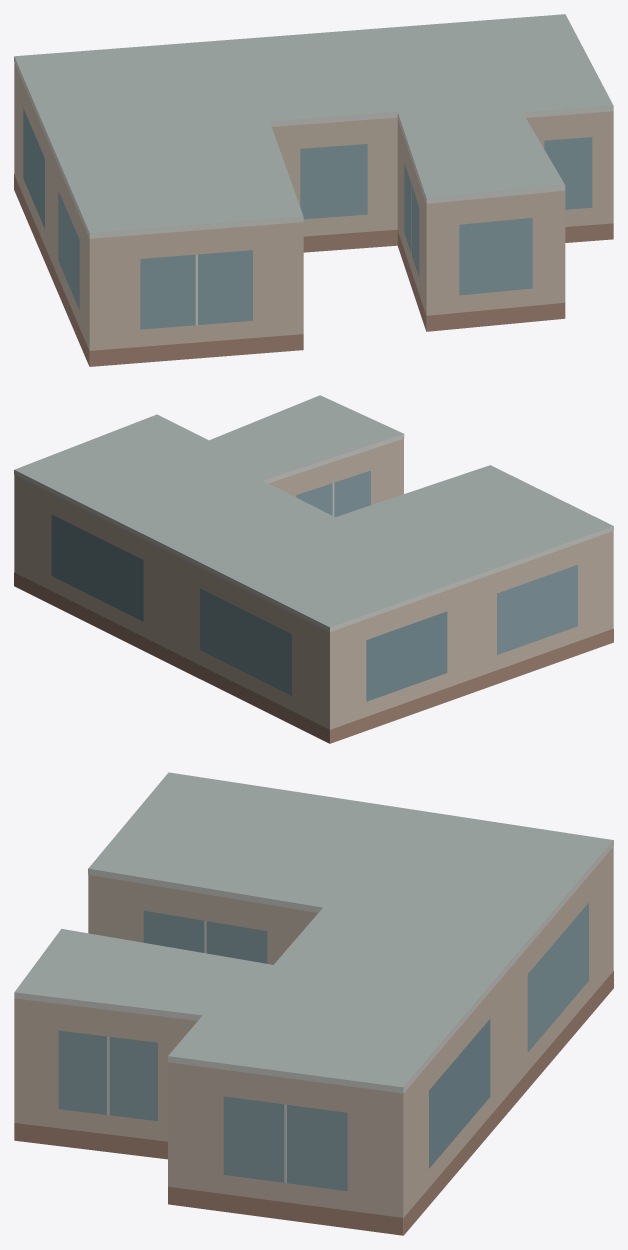
Rendered from survey-upis-33018129.glb.
3 renders of one model, top to bottom at view 1: azimuth 30°, elevation 25°; view 2: azimuth 150°, elevation 25°; view 3: azimuth 270°, elevation 25°, orthographic. The views are drawn at different scales.
Visible parts, largest first — view 1: survey-upis-33018129.tmp; view 2: survey-upis-33018129.tmp; view 3: survey-upis-33018129.tmp.
Part boxes in pixels (<box>): survey-upis-33018129.tmp: <box>14,14,613,366</box>; survey-upis-33018129.tmp: <box>14,395,613,743</box>; survey-upis-33018129.tmp: <box>14,772,613,1235</box>.
Bounding box in the file's own units: 13.93 × 3.05 × 11.2.
